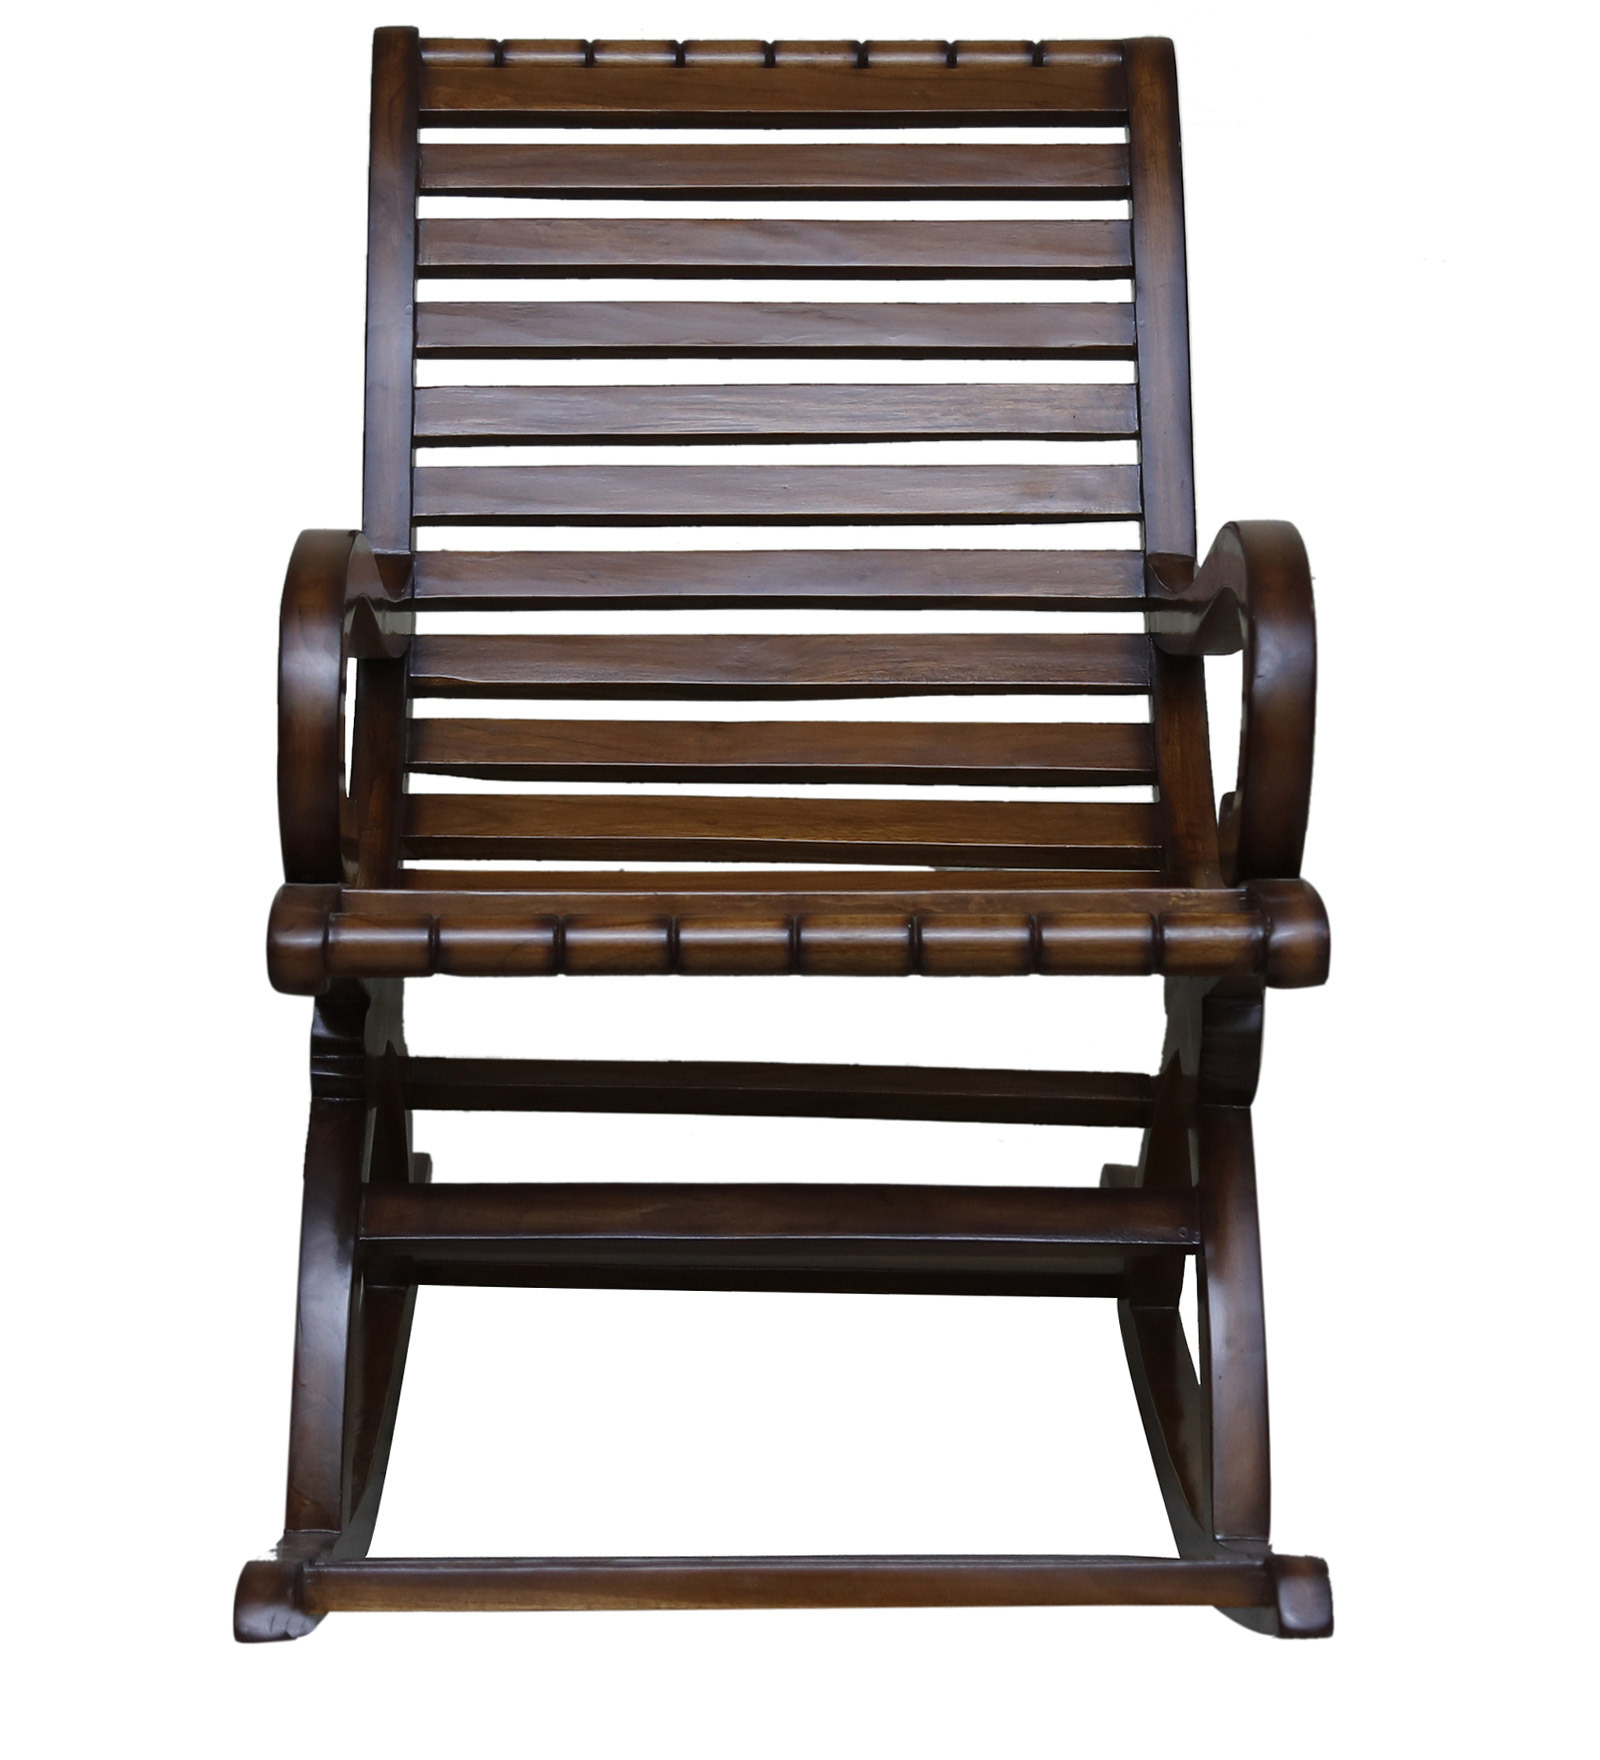Rocking Chair in Teak Colour by RVF: (167, 14, 1434, 1673)
